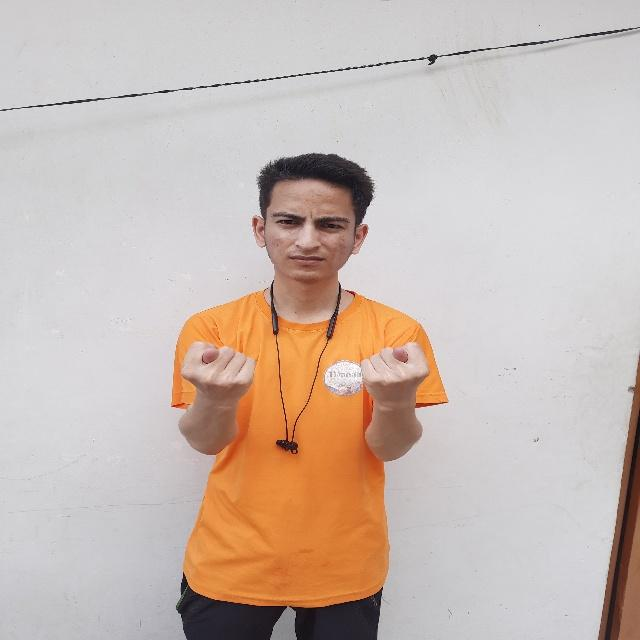Dulya: (175, 328, 265, 430), (357, 332, 438, 421)
